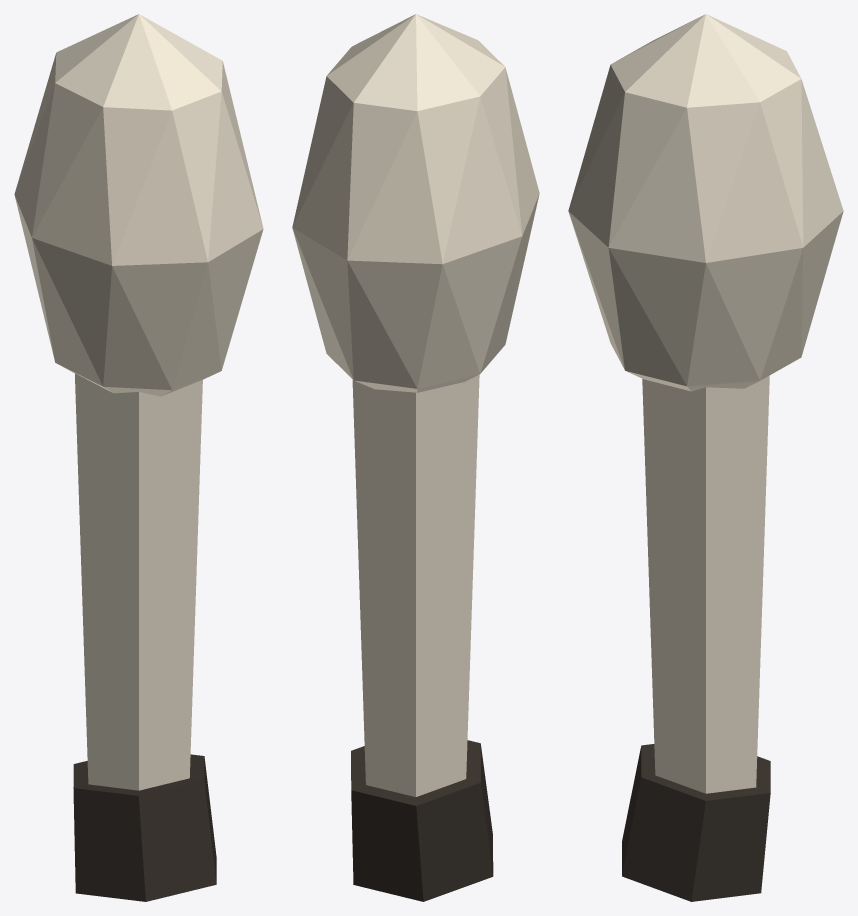
The model's file is calf_0_leg_fr.glb.
3 views of the same model, side by side, from view 1: azimuth 30°, elevation 25°; view 2: azimuth 150°, elevation 25°; view 3: azimuth 270°, elevation 25° (orthographic).
Visible parts, largest first — view 1: calf_0_leg_fr; view 2: calf_0_leg_fr; view 3: calf_0_leg_fr.
Boxes of the visible parts, x1=… form: calf_0_leg_fr: x1=14, y1=14, x2=263, y2=901; calf_0_leg_fr: x1=292, y1=14, x2=539, y2=901; calf_0_leg_fr: x1=568, y1=14, x2=843, y2=901.
Size of the model in its own units: 0.1088 by 0.4201 by 0.1216.
